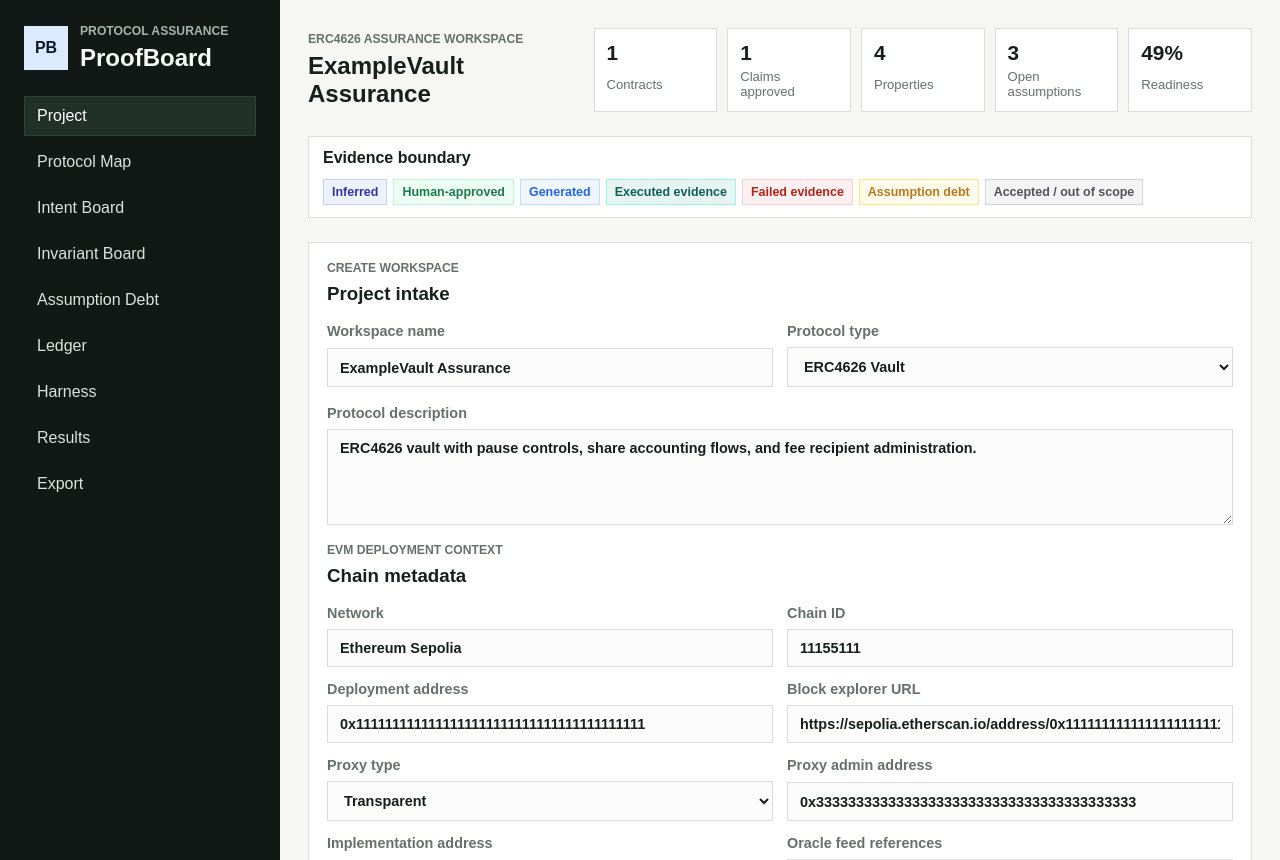
Scenario: ProofBoard workspace › renders verification ledger evidence and risk details
Click the button "Ledger" at [140, 346], box [24,326,256,366]
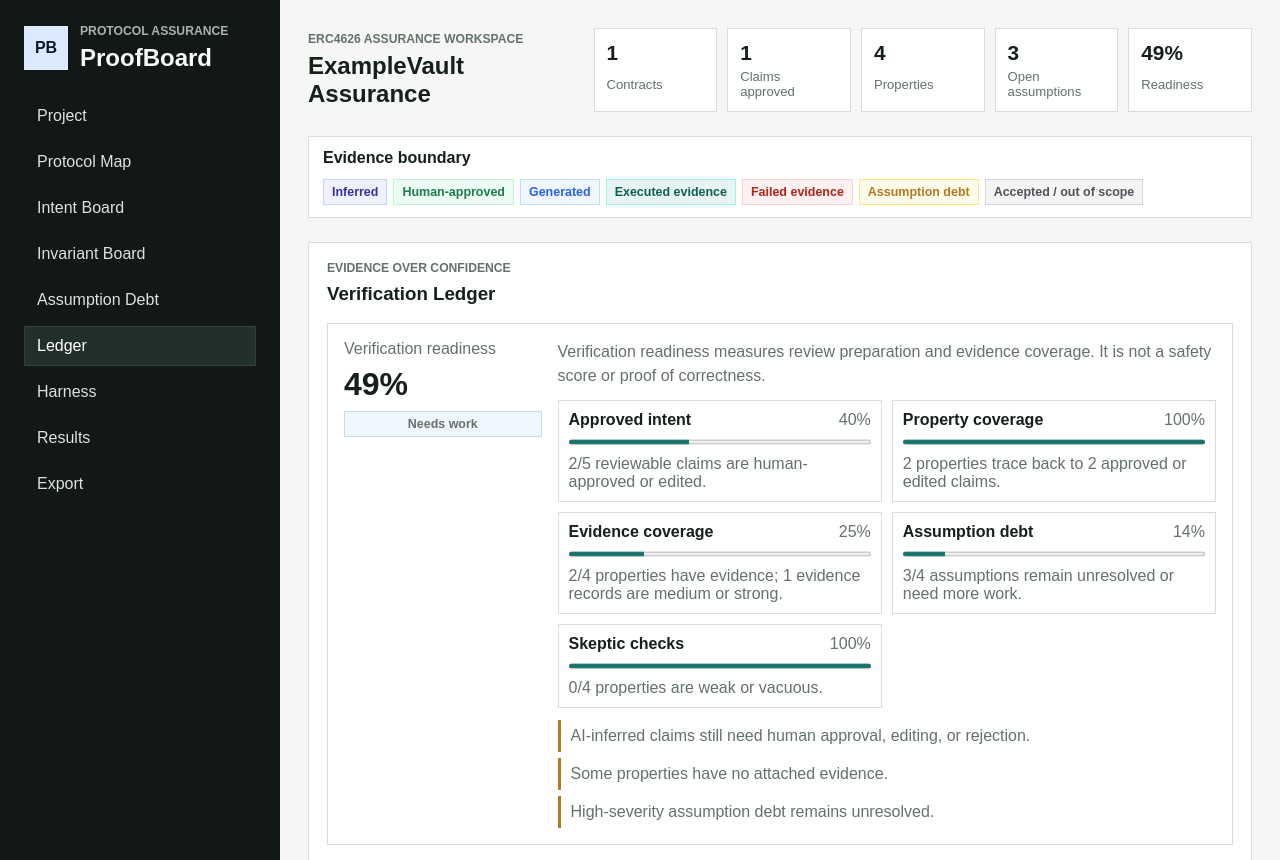
expect the text "Evidence over confidence" is shown: met, box [327,261,511,275]
expect the element labelled "Verification readiness" is shown: met, box [327,323,1233,845]
expect the text "not a safety score" is shown: met, box [558,343,1211,384]
